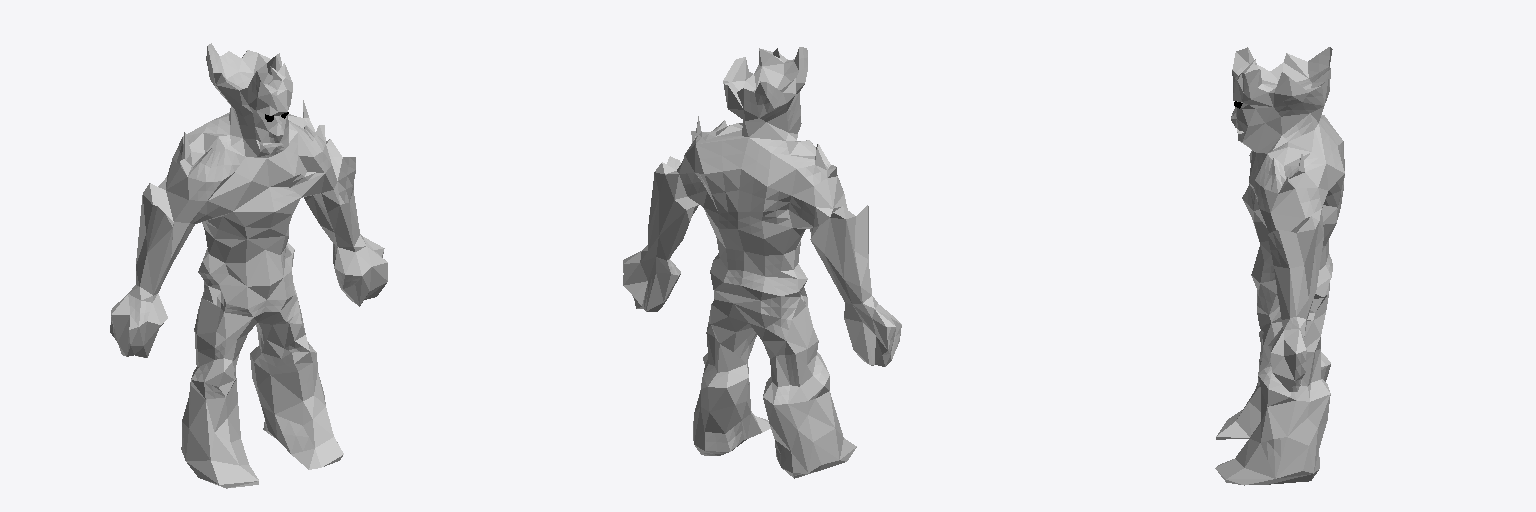
File: woodcreatureUnity.obj
The picture shows the model from 3 angles: view 1: azimuth 30°, elevation 25°; view 2: azimuth 150°, elevation 25°; view 3: azimuth 270°, elevation 25°; orthographic projection.
Visible parts, largest first — view 1: Tree01.001; view 2: Tree01.001; view 3: Tree01.001.
Boxes of the visible parts, x1,y1,x2,y2 form: Tree01.001: [110, 43, 387, 488]; Tree01.001: [623, 47, 901, 478]; Tree01.001: [1215, 47, 1344, 485].
Bounding box in the file's own units: 2.86 × 4.03 × 1.18.